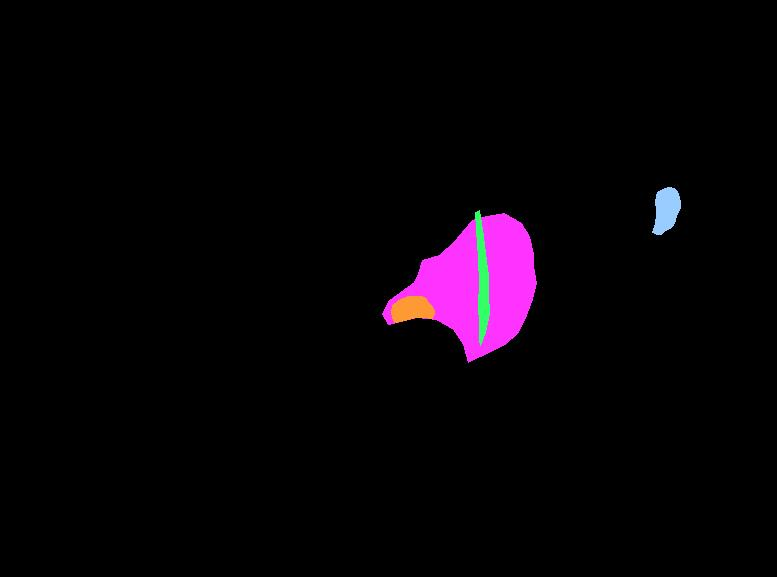Broken part: (475, 210, 489, 345)
Corrosion: (452, 227, 513, 299), (652, 187, 680, 234)
Dent: (382, 213, 536, 362)
Paint chip: (391, 296, 434, 322)
